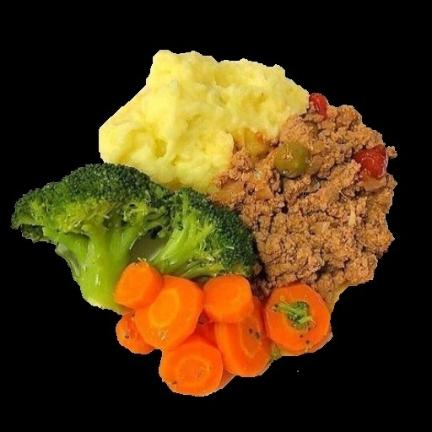broccoli: (12, 163, 257, 312)
carrot: (114, 262, 330, 395)
meat: (211, 94, 396, 308)
potato: (99, 51, 308, 192)
